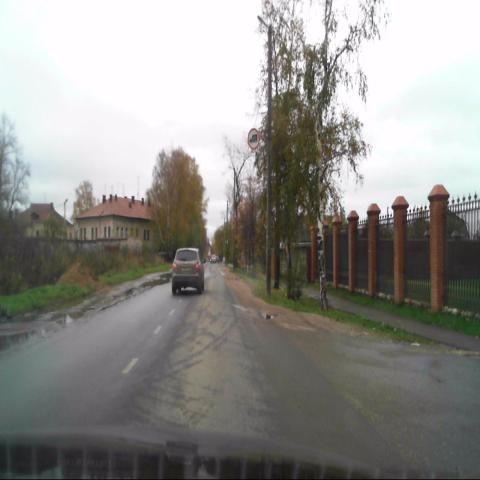3_4: (247, 128, 260, 150)
